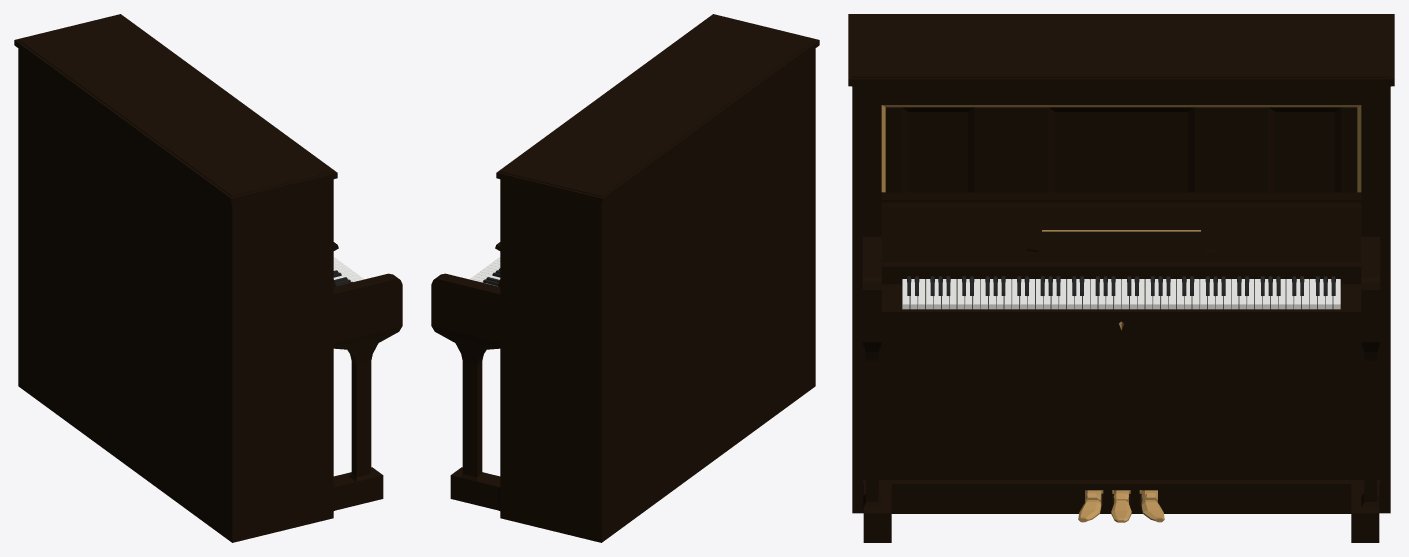
Rendered from piano .glb.
3 views of the same model, side by side, from view 1: azimuth 30°, elevation 25°; view 2: azimuth 150°, elevation 25°; view 3: azimuth 270°, elevation 25° (orthographic). The views are drawn at different scales.
Parts seen in each view (by area): view 1: body, keys; view 2: body, keys; view 3: body, lid, keys.
Part boxes in pixels (x1,y1,x2,y2): body: (14, 14, 402, 542); keys: (333, 257, 364, 286); body: (431, 14, 819, 542); keys: (469, 257, 500, 286); body: (848, 14, 1394, 542); lid: (881, 192, 1361, 262); keys: (902, 276, 1340, 309).
Bounding box in the file's own units: 1.12 × 2.09 × 2.37.
